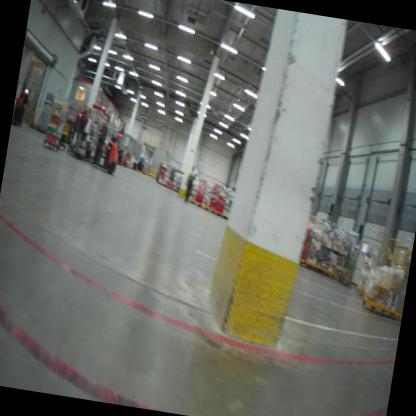pallet_truck: (56, 110, 129, 175), (116, 142, 132, 170)
